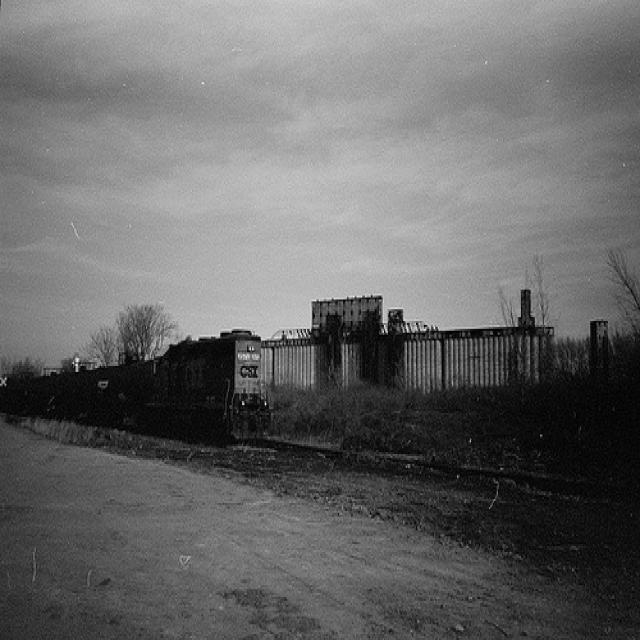train: (0, 328, 271, 448)
